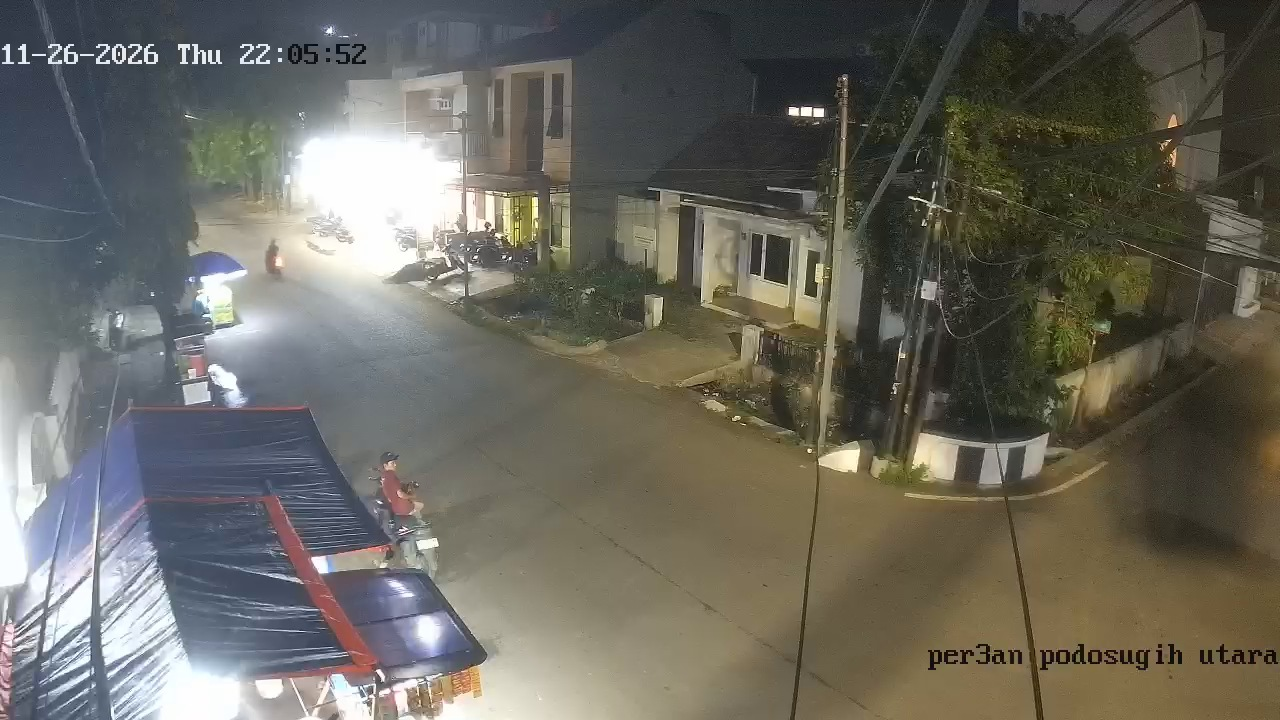Gerobak: (186, 248, 248, 330)
